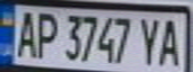3: (60, 10, 84, 61)
4: (97, 12, 118, 63)
7: (112, 14, 136, 65), (78, 12, 96, 63)
A: (154, 15, 184, 67), (12, 7, 39, 58)
P: (33, 8, 60, 60)
Y: (136, 15, 163, 66)
